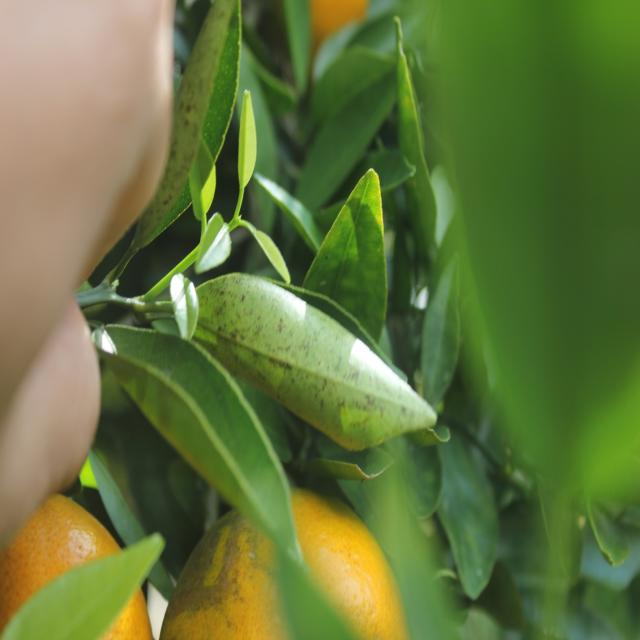melanose: (190, 268, 439, 471), (132, 1, 246, 235)
